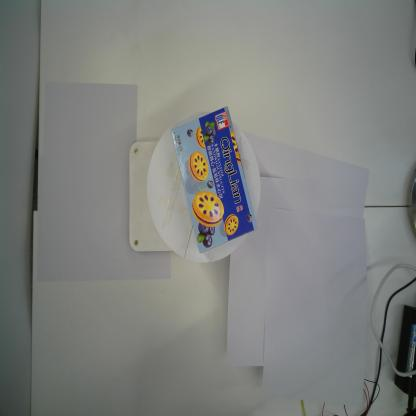Dessert: (170, 106, 258, 255)
